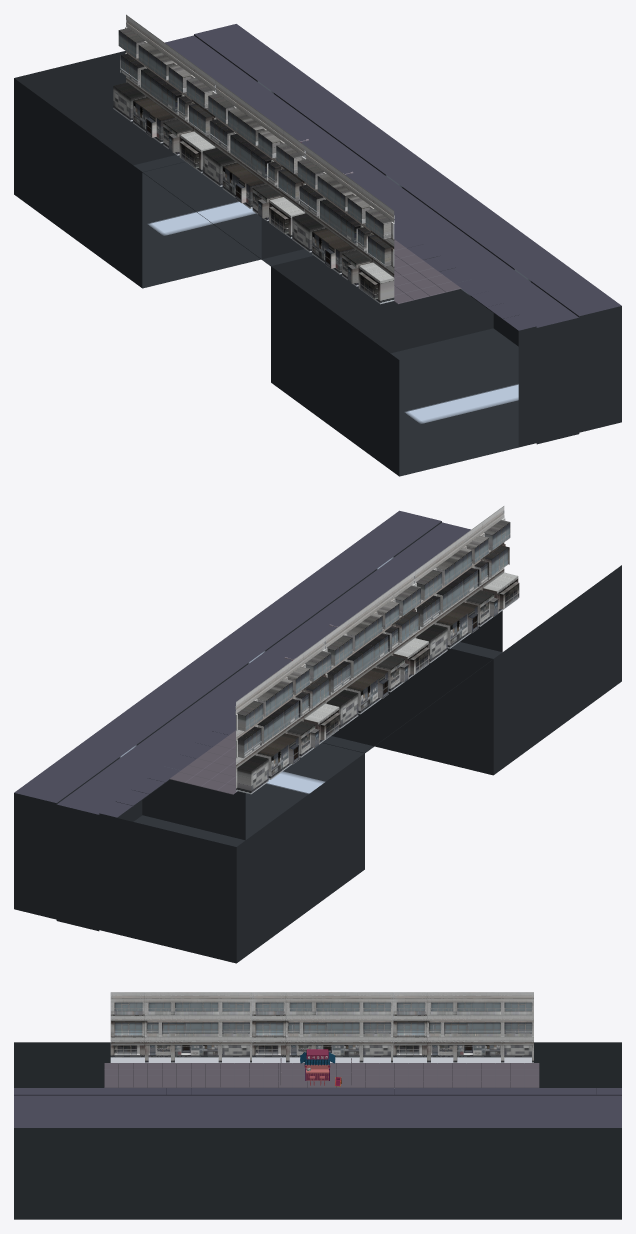
The picture shows the model from 3 angles, top to bottom: view 1: azimuth 30°, elevation 25°; view 2: azimuth 150°, elevation 25°; view 3: azimuth 270°, elevation 25°; orthographic projection. The views are drawn at different scales.
Visible parts, largest first — view 1: Road.002, Road, Road.001, building.001, building, building.002, Cube.001; view 2: Road, Road.002, Road.001, building.002, building.001, building, Cube.001; view 3: Road.002, Road, Road.001, Cube.001, building.001, building.002, building.
Boxes of the visible parts, x1,y1,x2,y2 form: Road.002: (271,212,621,476); Road: (14,24,364,288); Road.001: (142,118,493,353); building.001: (292,145,394,304); building: (202,80,304,238); building.002: (113,14,215,173); Cube.001: (394,239,461,304); Road: (14,699,364,963); Road.002: (271,510,621,775); Road.001: (142,605,493,840); building.002: (235,636,340,794); building.001: (415,506,519,663); building: (325,571,429,728); Cube.001: (169,730,237,794); Road.002: (14,1042,216,1219); Road: (419,1042,621,1219); Road.001: (216,1088,419,1219); Cube.001: (104,1063,539,1087); building.001: (110,992,251,1063); building.002: (393,992,533,1062); building: (252,992,392,1062).
Size of the model in its own units: 26.77 by 23.97 by 80.3.
